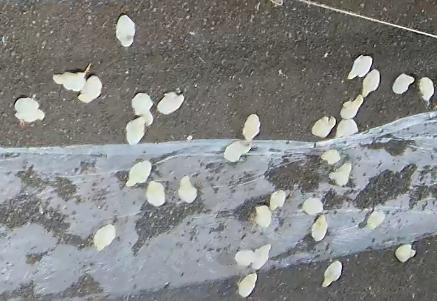chick: (52, 65, 93, 90), (13, 96, 45, 125), (130, 91, 154, 124), (345, 54, 373, 80), (155, 92, 186, 115), (125, 160, 151, 187), (115, 13, 135, 48), (92, 223, 116, 252), (222, 140, 252, 162), (328, 162, 354, 187), (77, 76, 103, 101), (339, 94, 364, 119), (390, 72, 416, 96), (235, 272, 259, 297), (362, 69, 381, 99), (178, 175, 198, 203), (126, 116, 146, 144), (323, 260, 342, 288), (242, 113, 261, 141), (311, 116, 335, 138), (252, 244, 272, 270), (250, 205, 272, 228), (146, 181, 165, 207), (311, 214, 328, 241), (394, 242, 415, 263), (302, 197, 325, 215), (416, 77, 433, 101), (234, 249, 255, 268), (367, 210, 385, 230), (270, 190, 285, 212), (320, 149, 340, 165)
